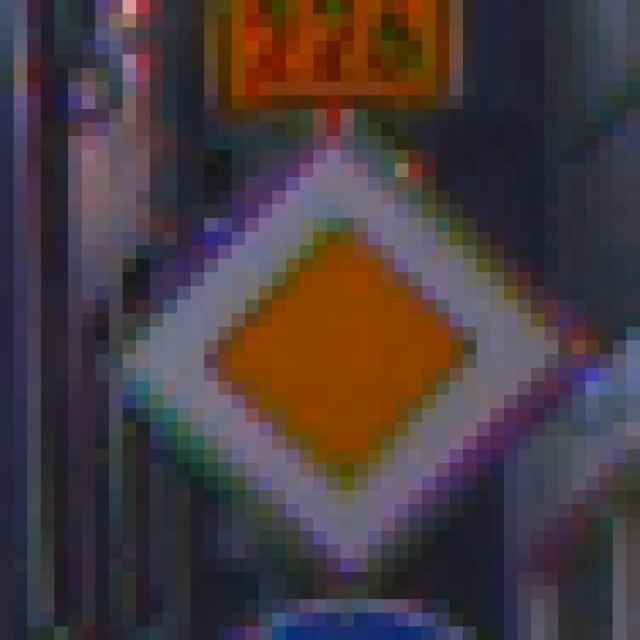Main Road: (83, 69, 573, 573)
